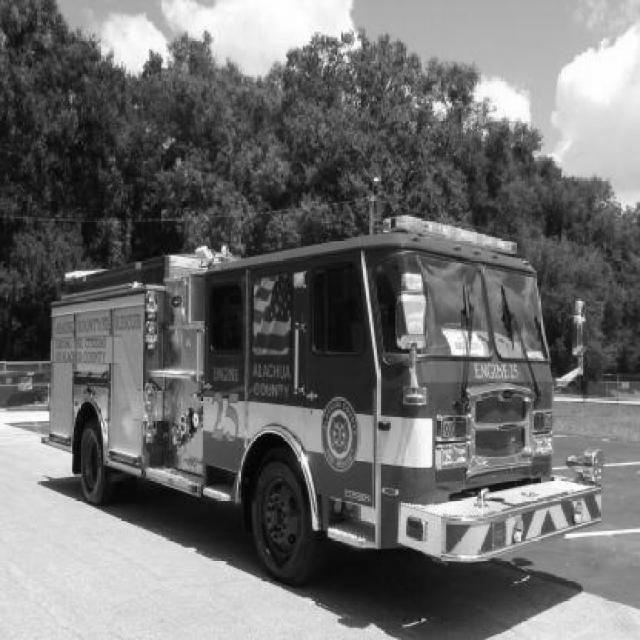Fire Truck: (39, 215, 603, 587)
